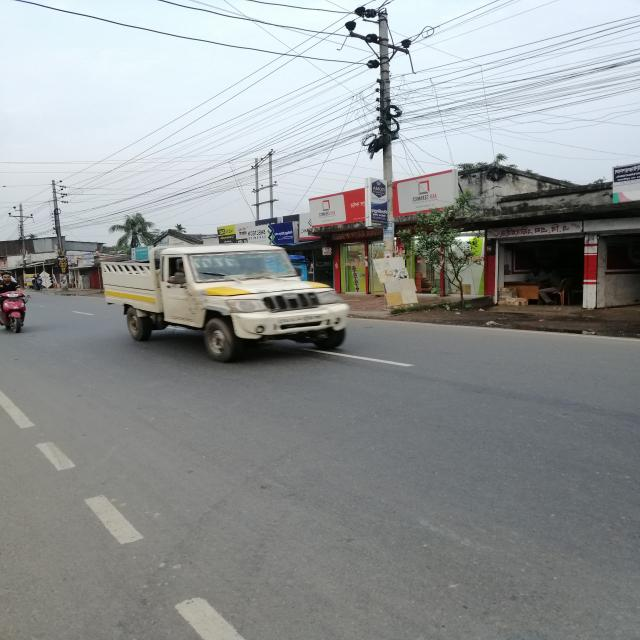Zeep: (110, 235, 343, 366)
